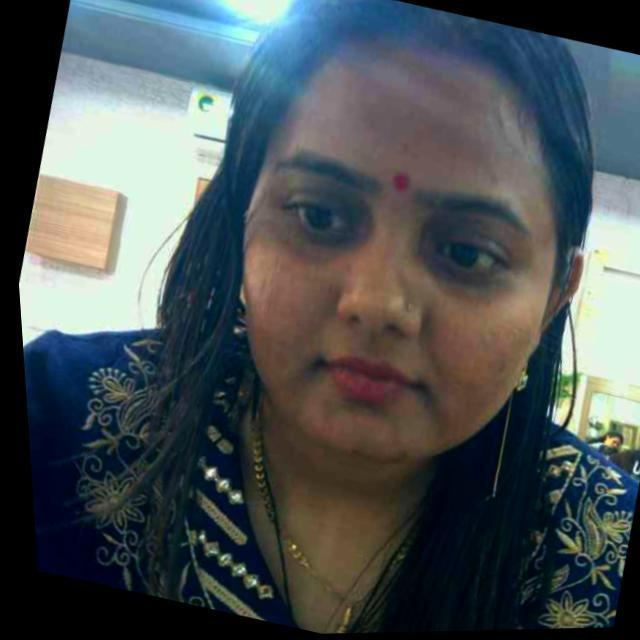puffy_eyes: (411, 246, 515, 304), (267, 215, 368, 260)
